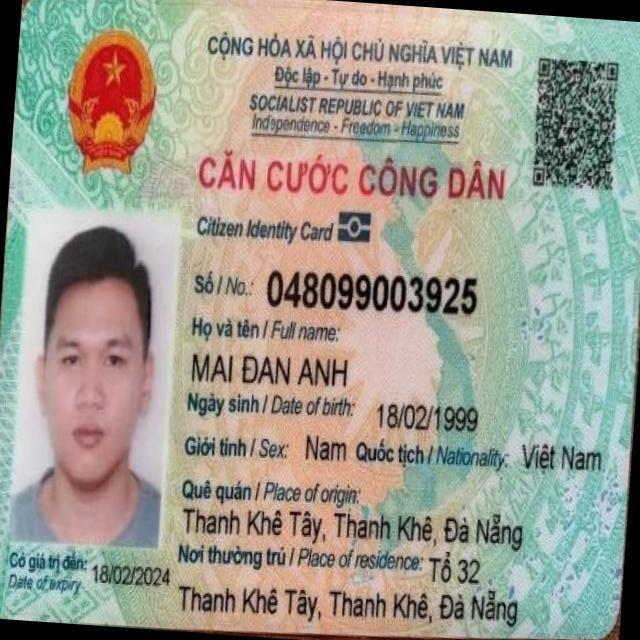current_place: (175, 585, 524, 633), (428, 548, 489, 589)
dob: (373, 395, 482, 438)
expire_date: (93, 554, 176, 591)
gender: (300, 428, 350, 468)
id: (260, 258, 481, 323)
name: (183, 342, 358, 395)
nationality: (516, 436, 608, 477)
origin_place: (177, 503, 529, 554)
